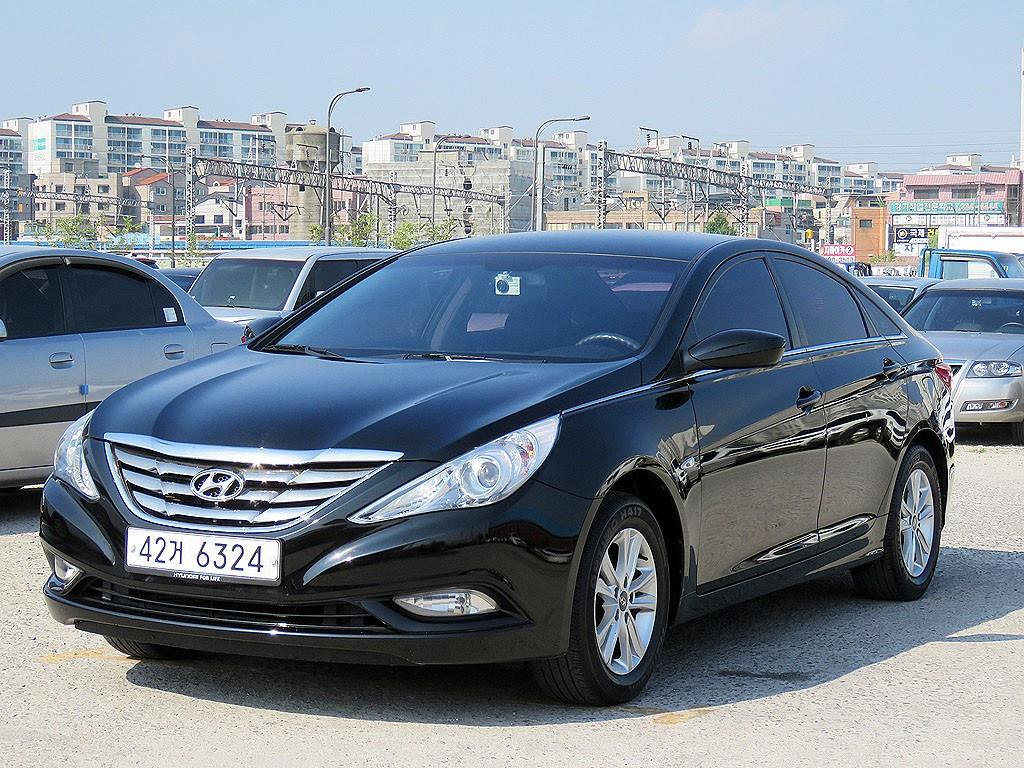plate: (127, 528, 279, 580)
